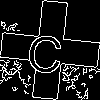C: (25, 25, 66, 75)
